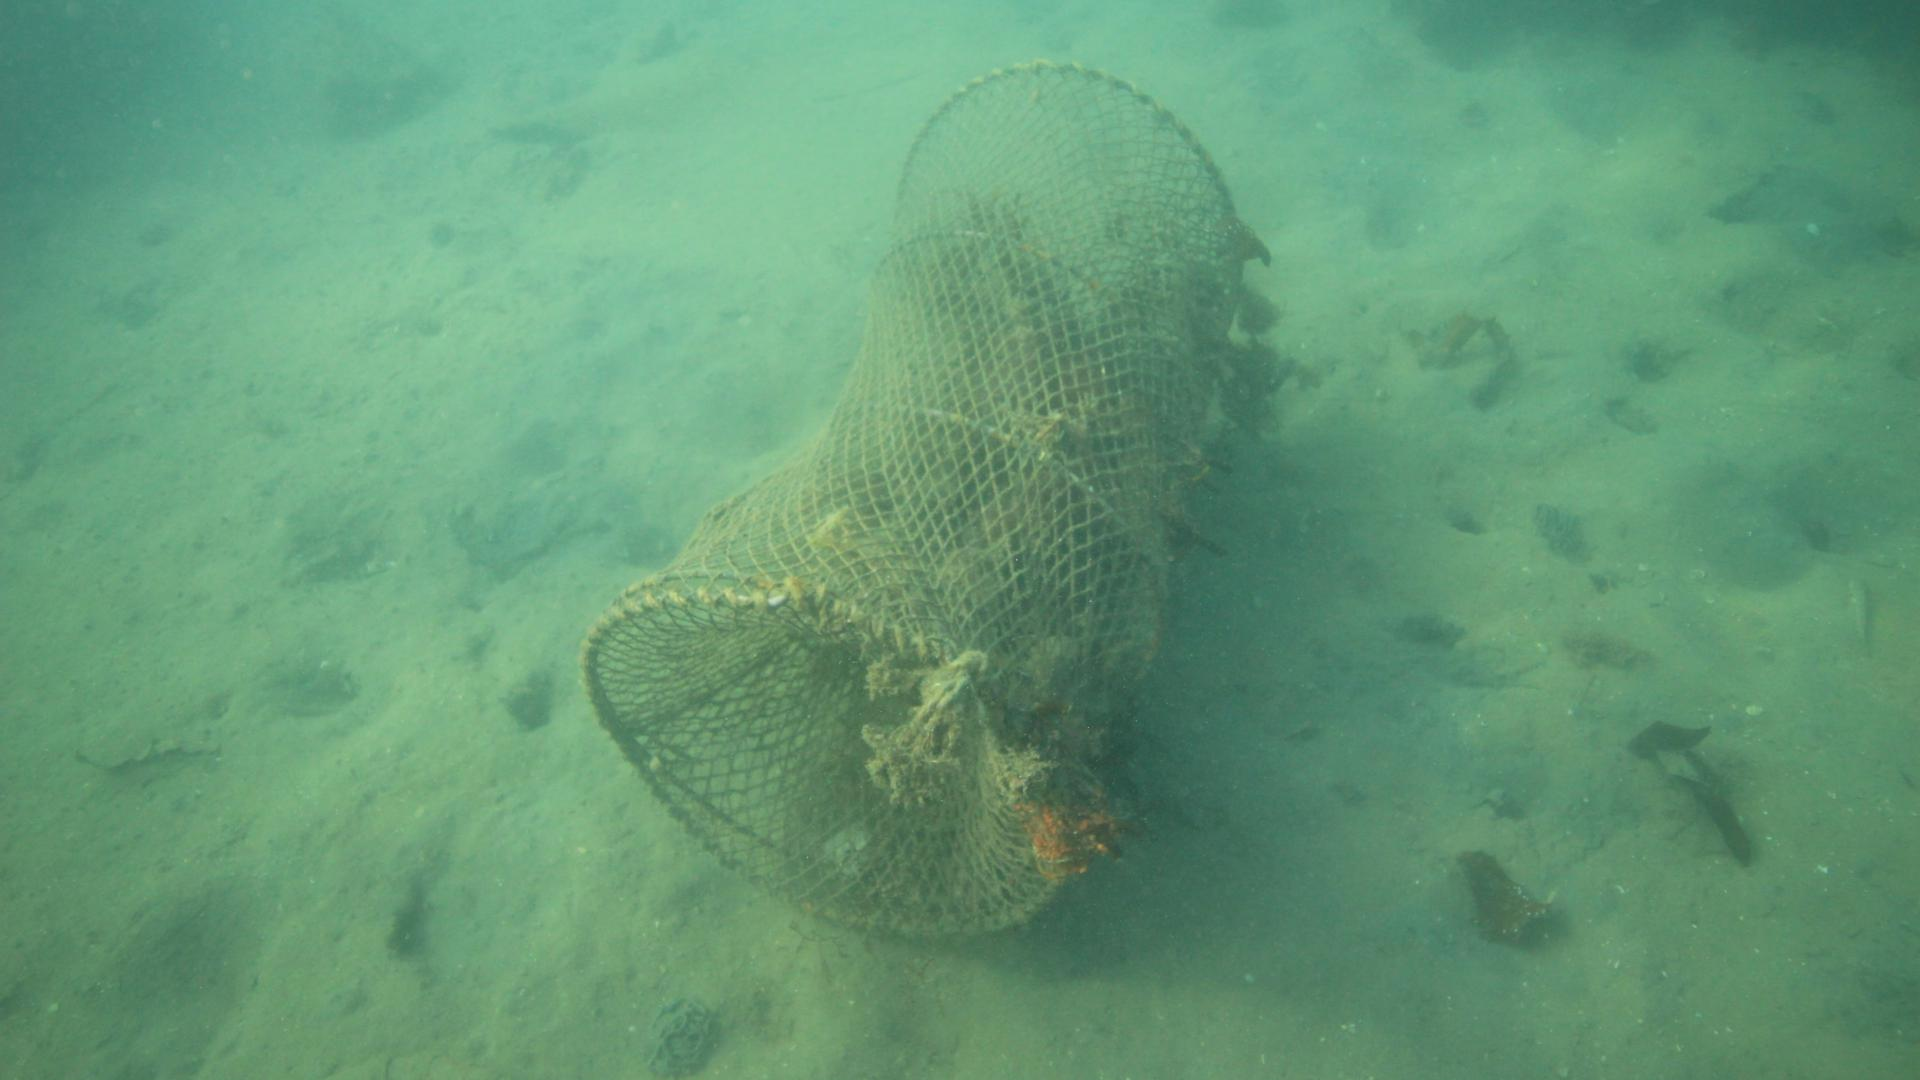spring fish trap: (579, 58, 1245, 945)
